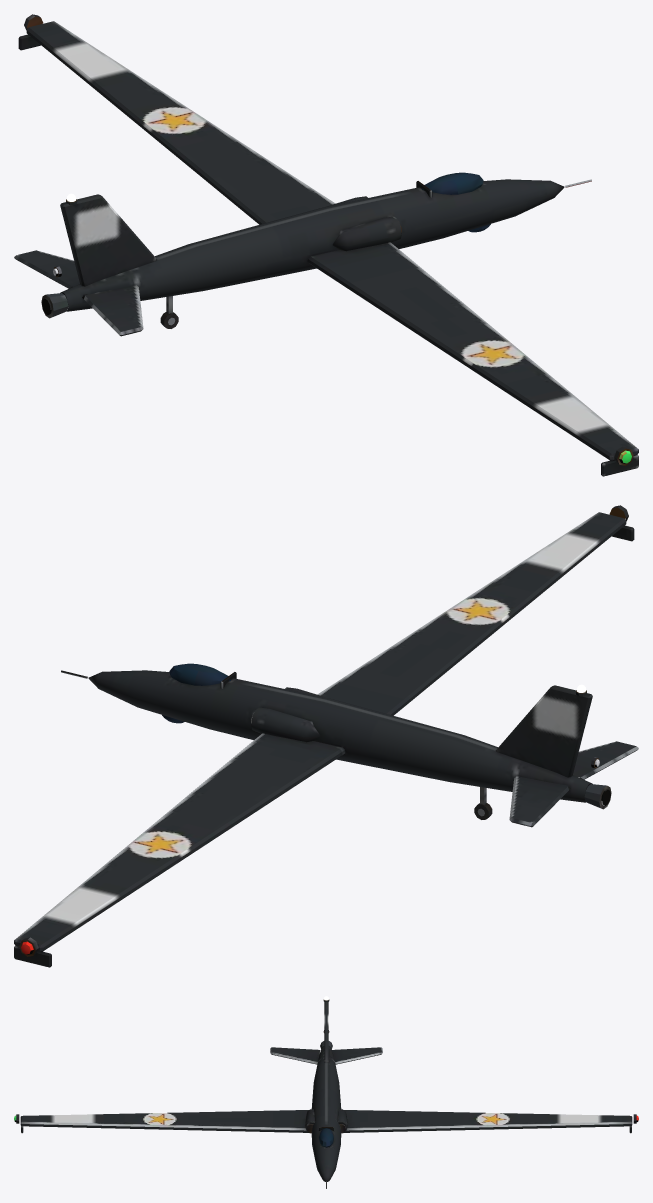
Rendered from u2.soviet.glb.
The picture shows the model from 3 angles, top to bottom: view 1: azimuth 30°, elevation 25°; view 2: azimuth 150°, elevation 25°; view 3: azimuth 270°, elevation 25°; orthographic projection. The views are drawn at different scales.
Parts seen in each view (by area): view 1: root_mesh; view 2: root_mesh; view 3: root_mesh.
Boxes of the visible parts, x1,y1,x2,y2 form: root_mesh: (14, 14, 638, 476); root_mesh: (14, 505, 638, 967); root_mesh: (14, 996, 638, 1188).
Bounding box in the file's own units: 1.03 × 0.284 × 1.95.
Materials: 2 (1 with a texture image).
